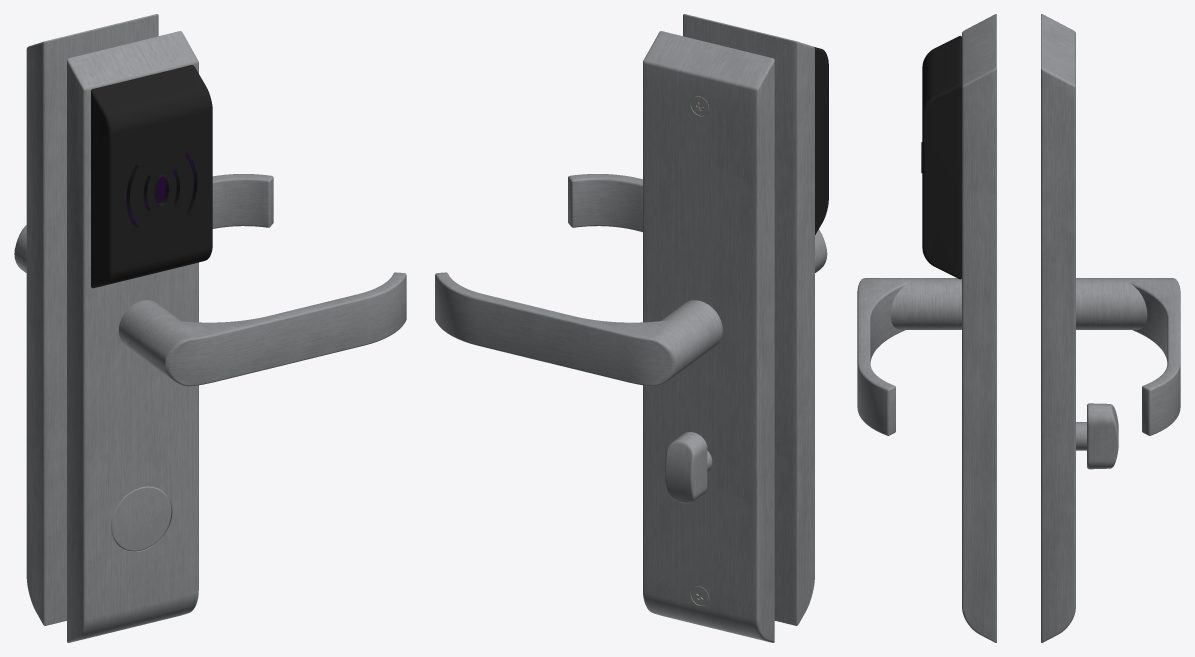
The model's file is e3041_platinum.gltf.
The picture shows the model from 3 angles, left to right: view 1: azimuth 30°, elevation 25°; view 2: azimuth 150°, elevation 25°; view 3: azimuth 270°, elevation 25°; orthographic projection.
Parts seen in each view (by area): view 1: front.corpo, front.corpo.001, front_apendice.backup, macaneta.001, macaneta.002, cric_logo_orbita; view 2: front.corpo.001, front.corpo, macaneta.002, macaneta.001, handler_locker_back, front_apendice.backup; view 3: front.corpo, front.corpo.001, front_apendice.backup, macaneta.002, macaneta.001, handler_locker_back.
Boxes of the visible parts, box(x1,y1,x2,y2) form: front.corpo: box(67, 31, 198, 642); front.corpo.001: box(26, 14, 158, 625); front_apendice.backup: box(91, 65, 212, 288); macaneta.001: box(118, 272, 406, 386); macaneta.002: box(14, 174, 273, 272); cric_logo_orbita: box(111, 486, 171, 551); front.corpo.001: box(643, 31, 774, 642); front.corpo: box(683, 14, 814, 625); macaneta.002: box(435, 272, 722, 386); macaneta.001: box(568, 174, 827, 272); handler_locker_back: box(665, 432, 707, 503); front_apendice.backup: box(814, 47, 828, 234); front.corpo: box(962, 14, 996, 642); front.corpo.001: box(1041, 14, 1075, 642); front_apendice.backup: box(922, 35, 961, 279); macaneta.002: box(1076, 278, 1180, 435); macaneta.001: box(857, 278, 961, 435); handler_locker_back: box(1087, 403, 1118, 469).
Size of the model in its own units: 1.48 by 2.89 by 1.47.
6 materials, 4 textured.
